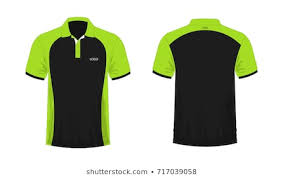C_polo shirt: (23, 13, 137, 151)
